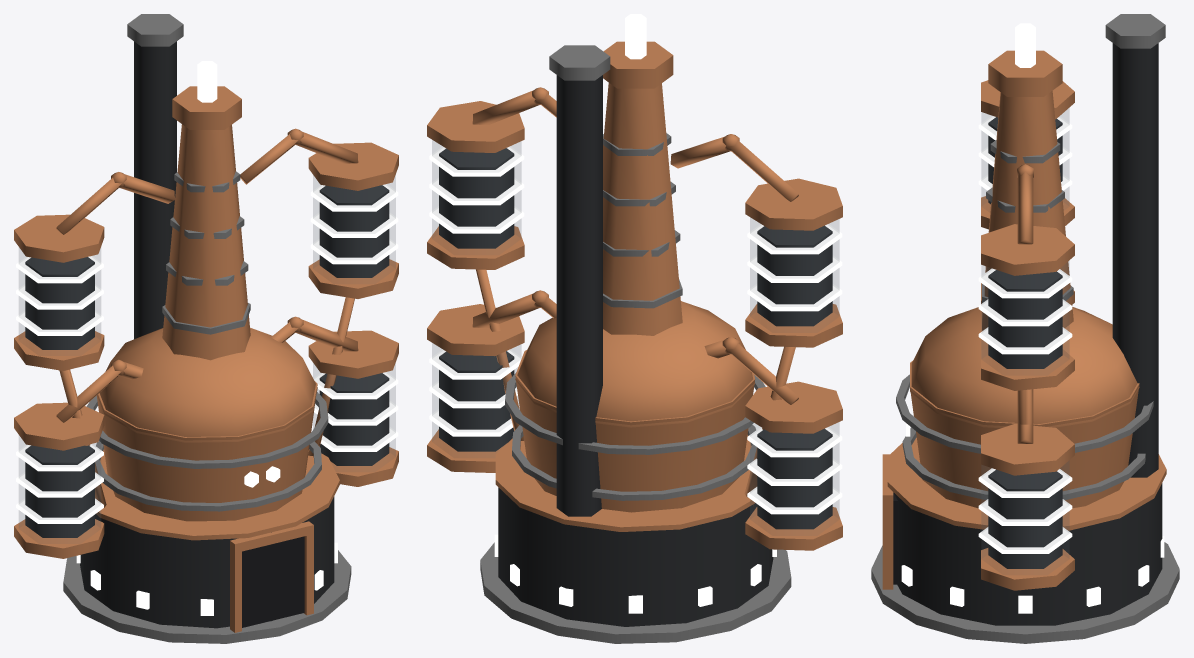
File: Skin_Distillery_T3.glb
3 renders of one model, left to right at view 1: azimuth 30°, elevation 25°; view 2: azimuth 150°, elevation 25°; view 3: azimuth 270°, elevation 25°, orthographic. The views are drawn at different scales.
Visible parts, largest first — view 1: Skin_Distillery_T3; view 2: Skin_Distillery_T3; view 3: Skin_Distillery_T3.
Part boxes in pixels (box(x1,y1,x2,y2)): Skin_Distillery_T3: box(14, 14, 398, 643); Skin_Distillery_T3: box(427, 14, 842, 643); Skin_Distillery_T3: box(871, 14, 1179, 643).
Size of the model in its own units: 5.19 by 6.93 by 3.5.
